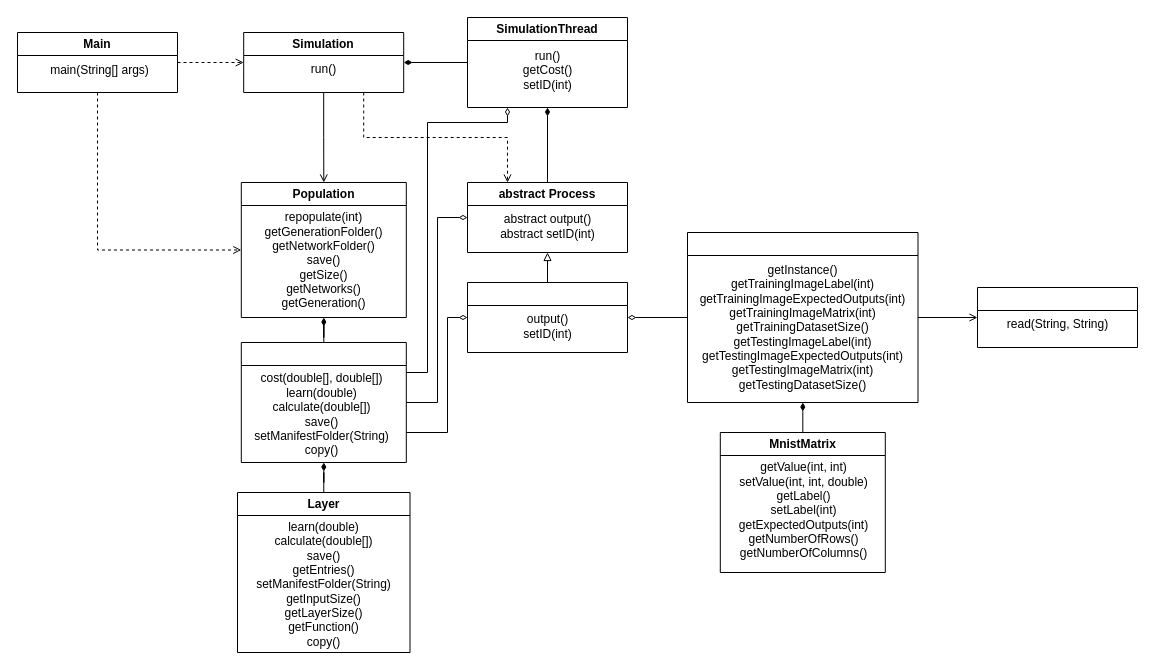
The diagram is 1155 pixels wide and 672 high, and some of its shapes have lost their labels. The box of each missing label's shape, as (x1, y1, x2, y2) in pixels:
MnistDatabase: (686, 232, 918, 402)
MnistDataReader: (976, 286, 1138, 348)
MnistProcess: (466, 282, 628, 352)
Network: (240, 342, 406, 462)
